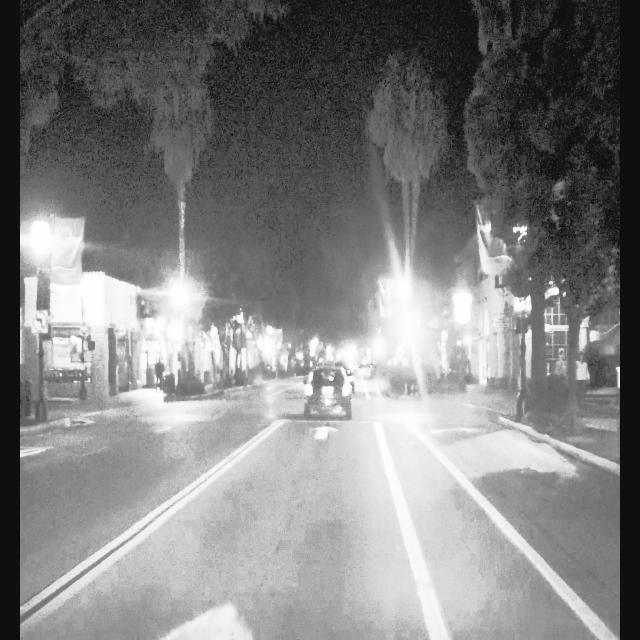Light: (36, 268, 50, 310)
Tree: (557, 3, 613, 431), (508, 22, 552, 416)
